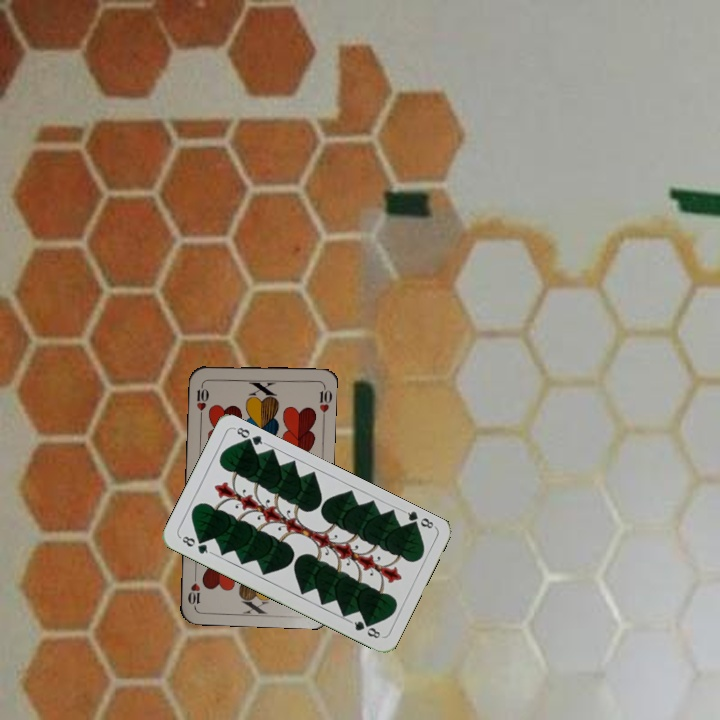G8: (400, 506, 438, 532), (176, 532, 214, 556)
H10: (192, 379, 211, 420)
